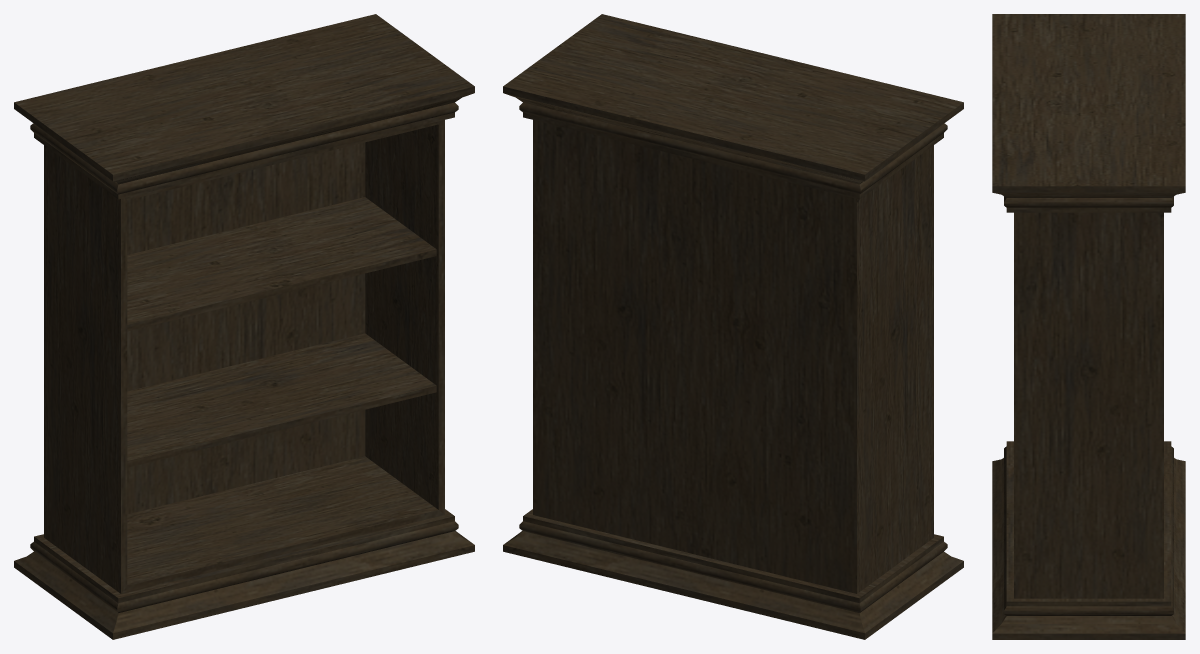
File: shelf_mp_3_4.obj
3 views of the same model, side by side, from view 1: azimuth 30°, elevation 25°; view 2: azimuth 150°, elevation 25°; view 3: azimuth 270°, elevation 25° (orthographic). The views are drawn at different scales.
Parts seen in each view (by area): view 1: shelf_mp_3_4; view 2: shelf_mp_3_4; view 3: shelf_mp_3_4.
Part boxes in pixels (left/top/right/bottom): shelf_mp_3_4: left=14, top=14, right=474, bottom=639; shelf_mp_3_4: left=503, top=14, right=963, bottom=639; shelf_mp_3_4: left=992, top=14, right=1185, bottom=639.
Bounding box in the file's own units: 1.14 × 1.4 × 0.54.
